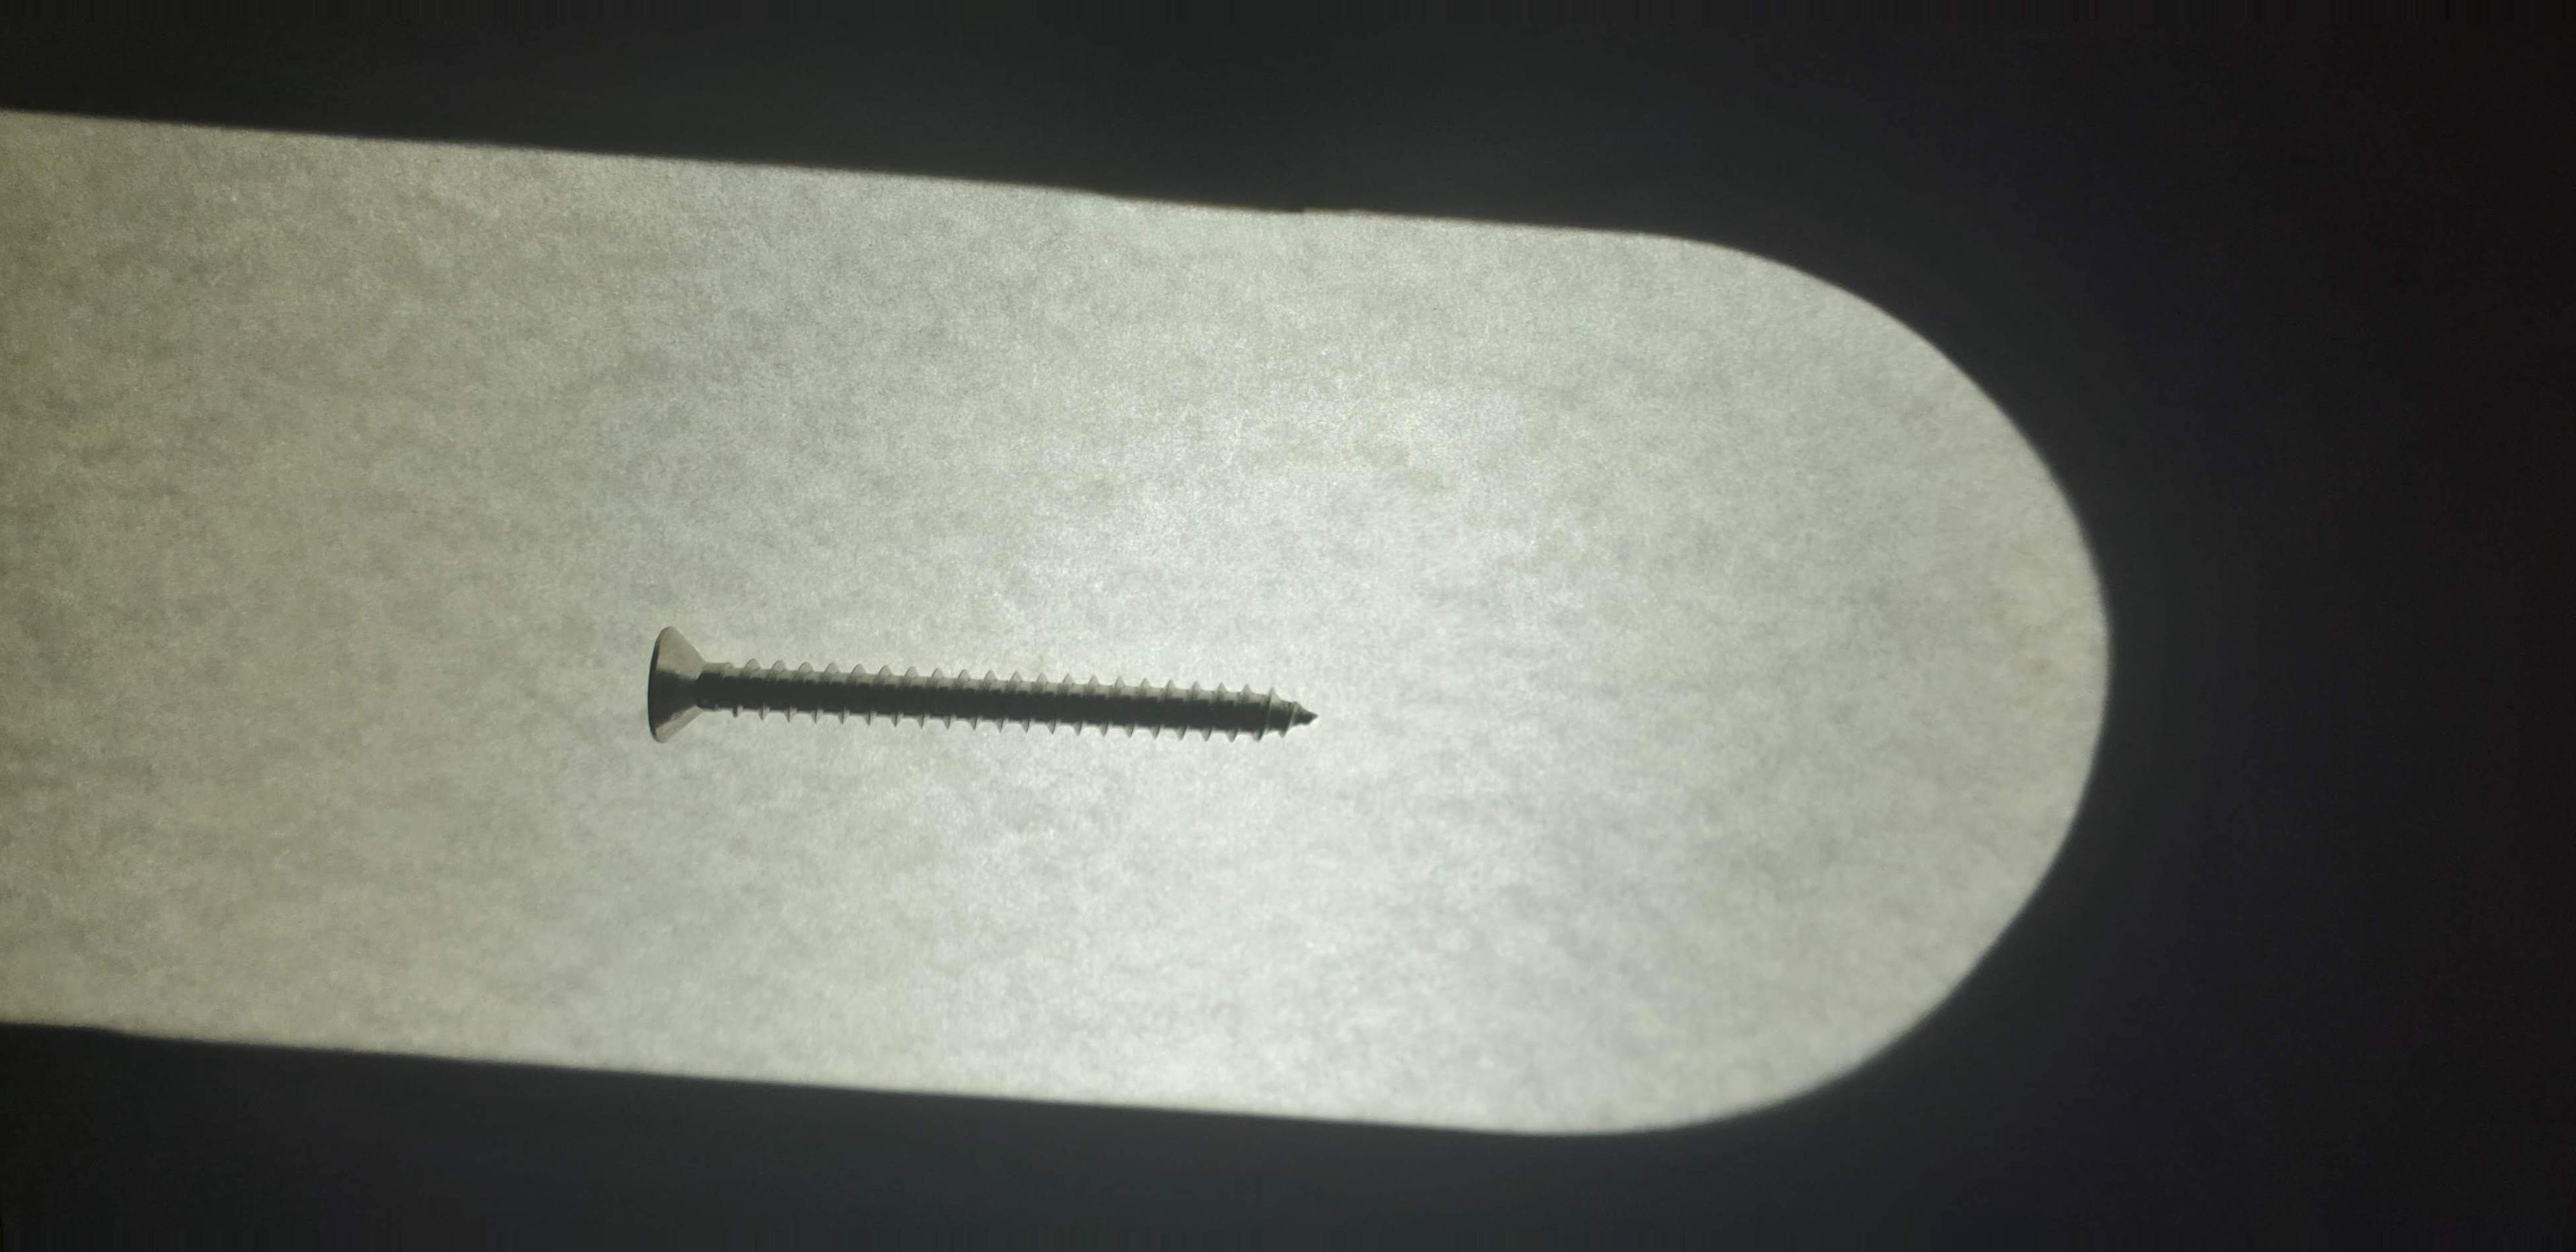S001: (596, 591, 1350, 813)
